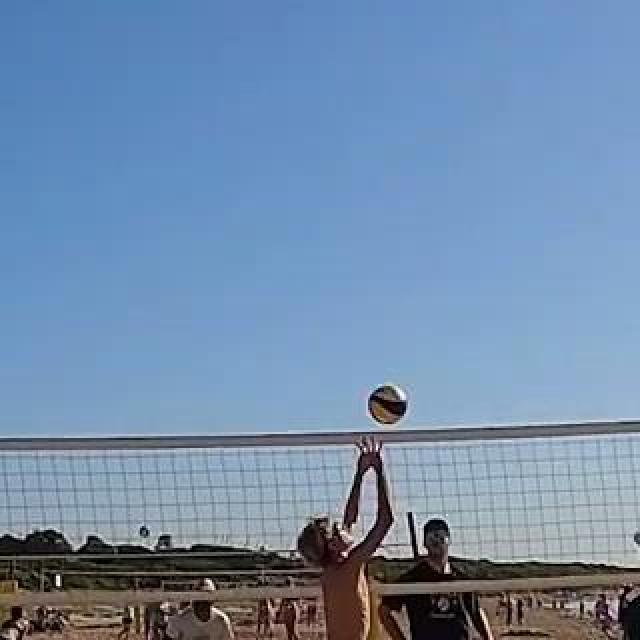volleyball: (368, 384, 408, 424)
